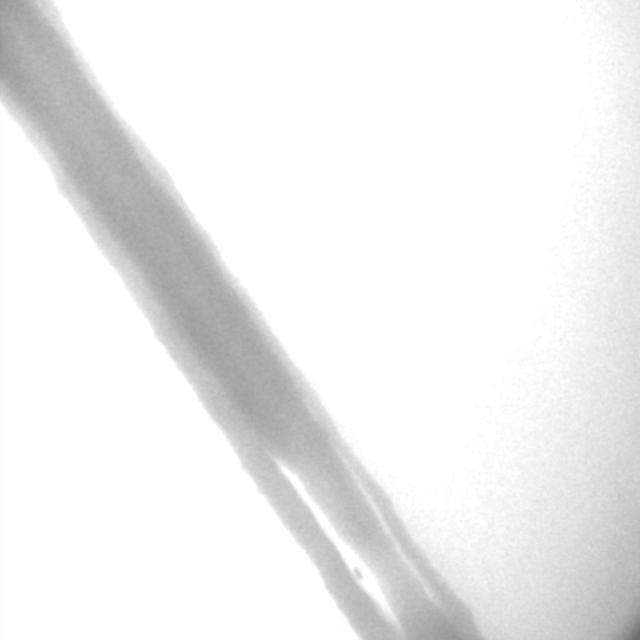unfused: (274, 447, 440, 631)
